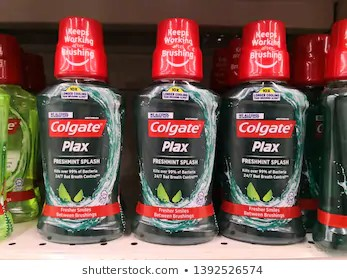colgate-Plax: (30, 14, 124, 246), (129, 12, 218, 246), (221, 16, 310, 249)
